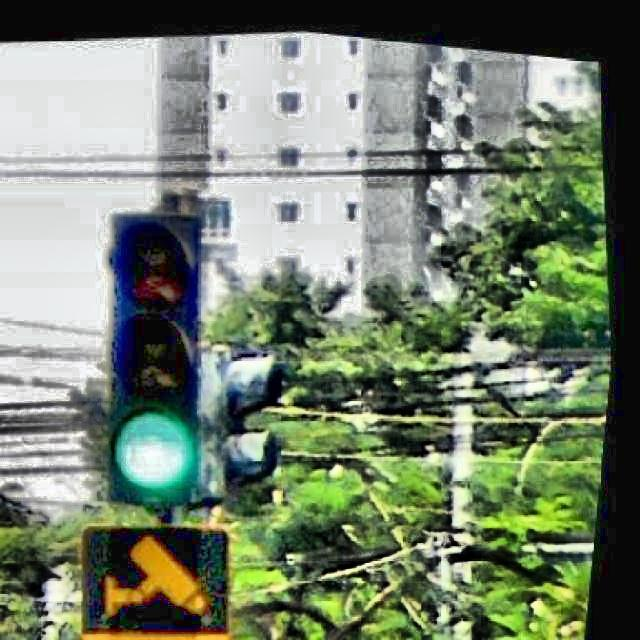green: (95, 215, 204, 499)
